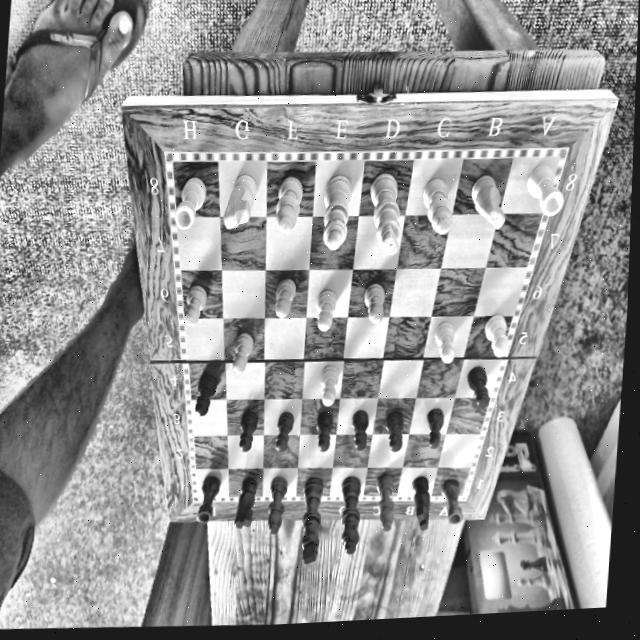black-bishop: (370, 467, 401, 534), (264, 472, 292, 538)
black-king: (295, 470, 327, 567)
black-knight: (405, 470, 437, 534), (230, 471, 262, 532)
black-pawn: (463, 363, 495, 415), (190, 367, 221, 420), (233, 404, 263, 456), (268, 407, 299, 456), (423, 401, 449, 452), (380, 407, 408, 453), (312, 409, 336, 454), (348, 407, 371, 453)
black-queen: (334, 469, 368, 559)
black-rook: (436, 474, 468, 530), (193, 471, 224, 525)
white-bishop: (272, 166, 309, 238), (419, 168, 456, 240)
white-king: (365, 164, 407, 257)
white-knight: (465, 165, 511, 234), (220, 166, 264, 233)
white-pawn: (479, 308, 515, 361), (179, 275, 212, 331), (430, 317, 464, 366), (313, 360, 345, 408), (312, 283, 342, 334), (361, 274, 391, 324), (227, 329, 257, 378), (271, 272, 301, 320)
white-queen: (319, 166, 358, 256)
white-rook: (521, 153, 569, 221), (172, 164, 212, 231)
